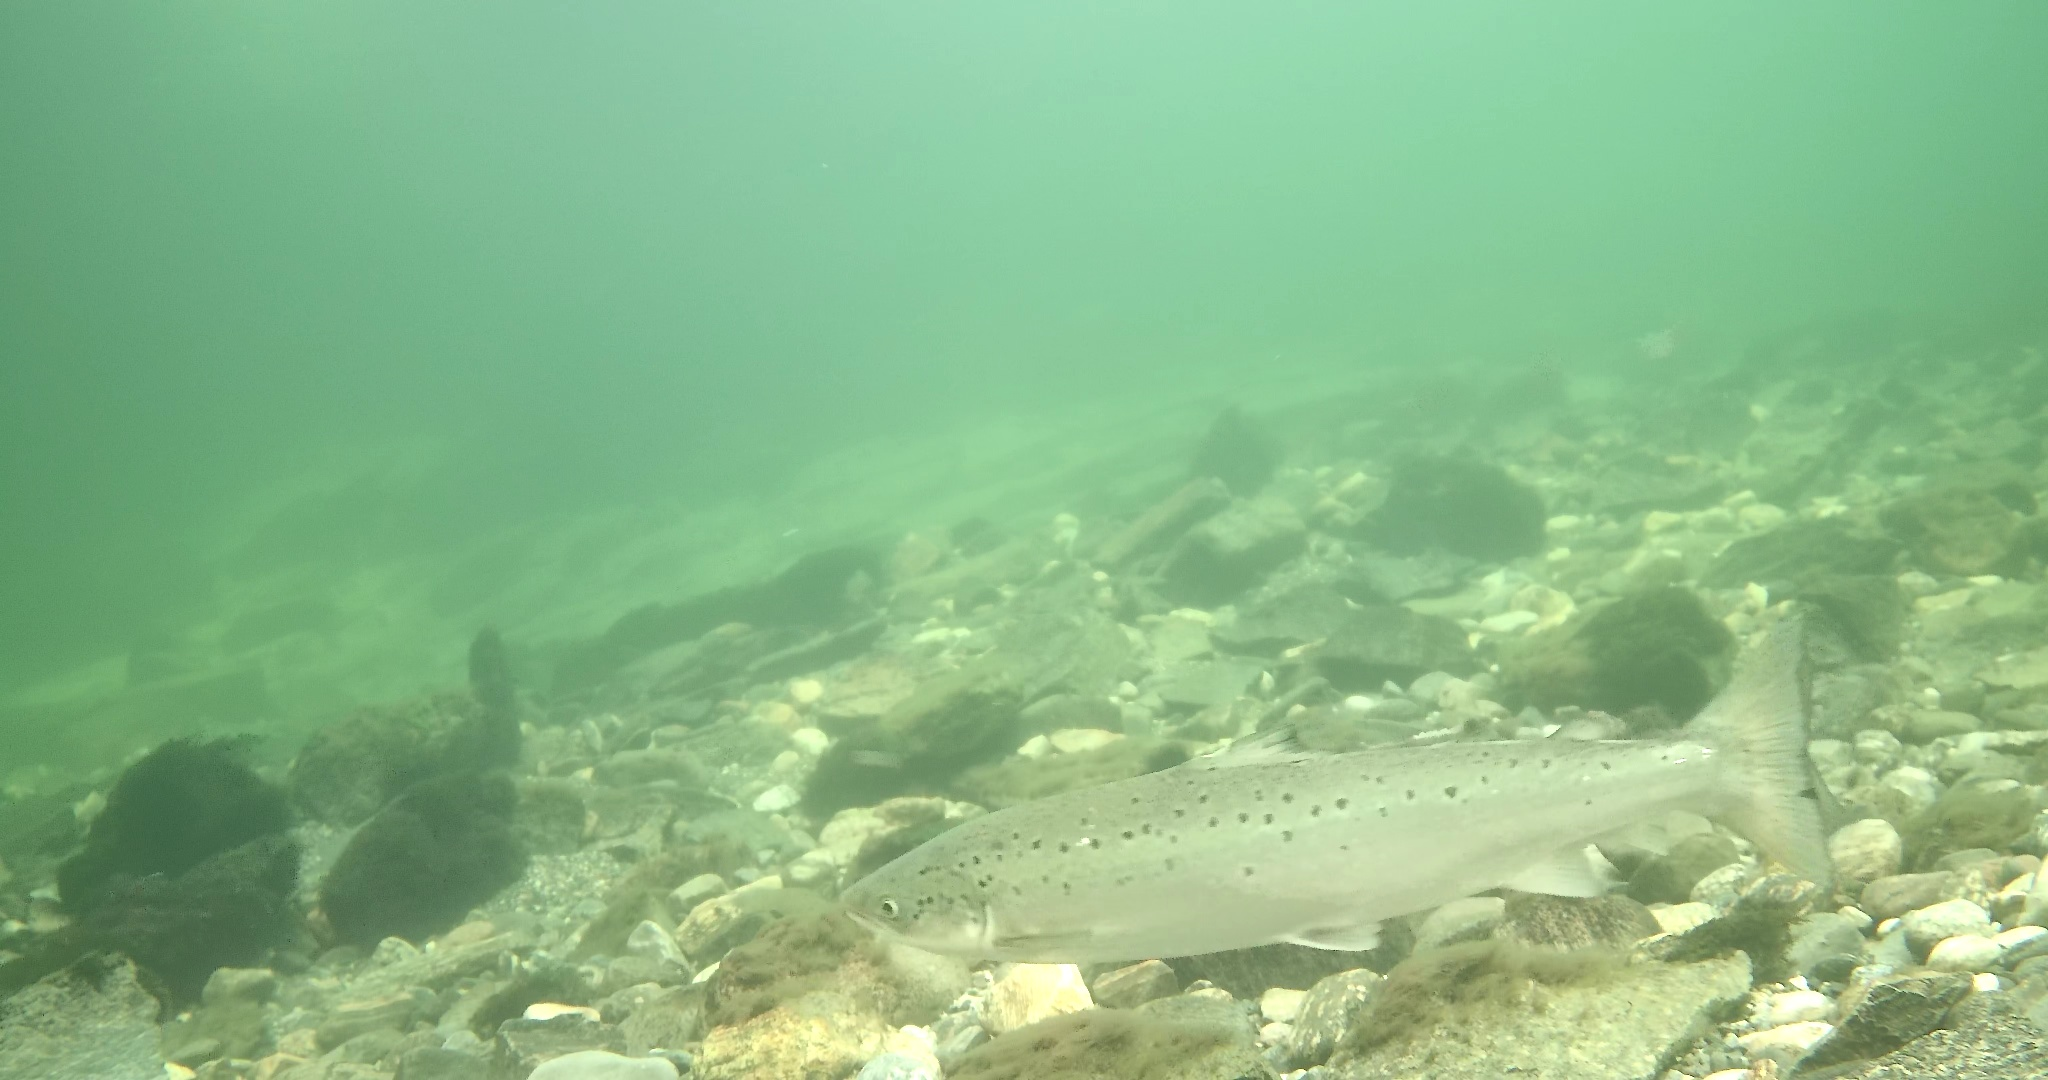salmon: (840, 607, 1837, 968)
